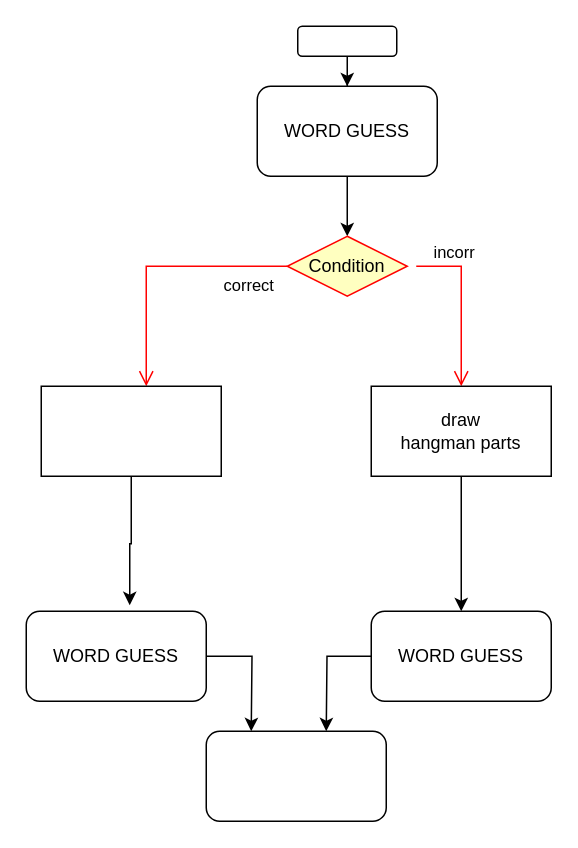
The diagram is 578 pixels wide and 848 high, and some of its shapes have lost their labels. Each missing label, with the centre of its shape:
dont draw hangman parts: the point at 130,430
START: the point at 346,40
win / lose (if hangman completed lose otherwise win): the point at 295,775
